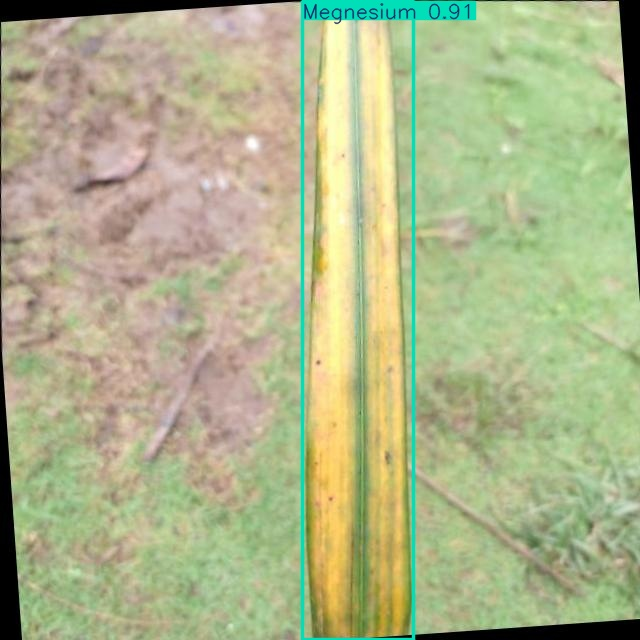Megnesium: (302, 1, 414, 639)
